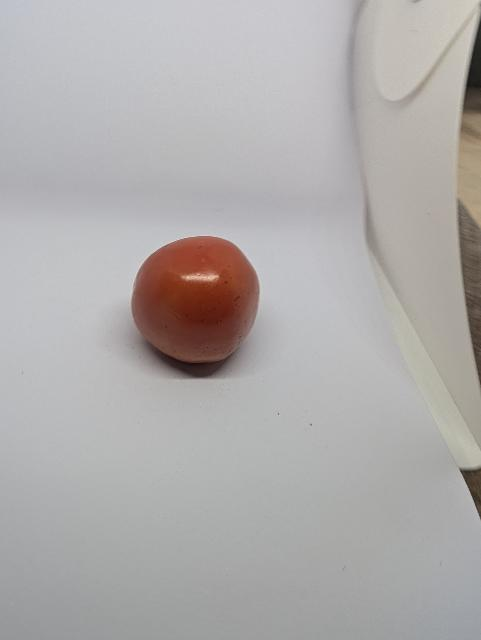red: (117, 220, 283, 384)
